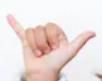clockwise: (2, 11, 98, 72)
